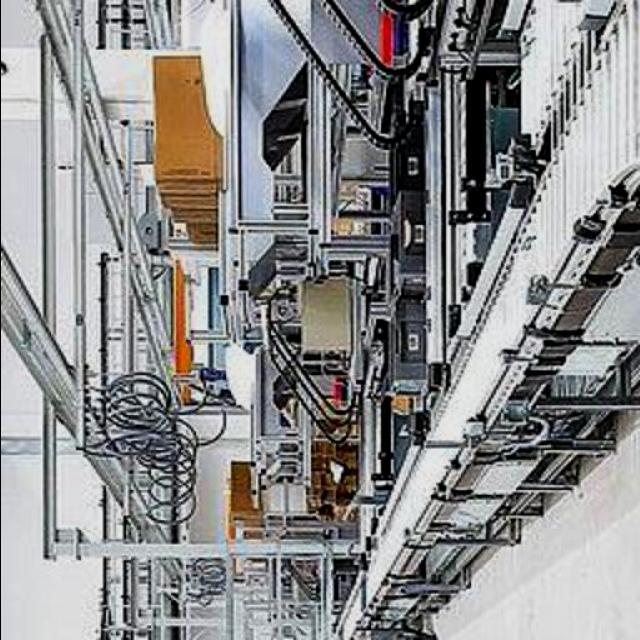conveyor: (332, 0, 640, 635)
